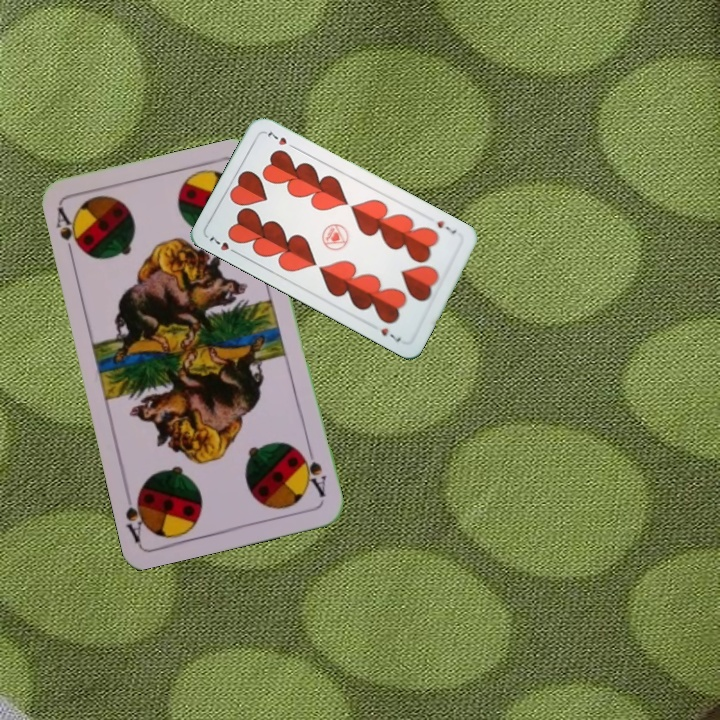H7: (205, 230, 242, 257), (433, 217, 459, 237)
SA: (52, 203, 88, 262), (296, 443, 329, 500)
